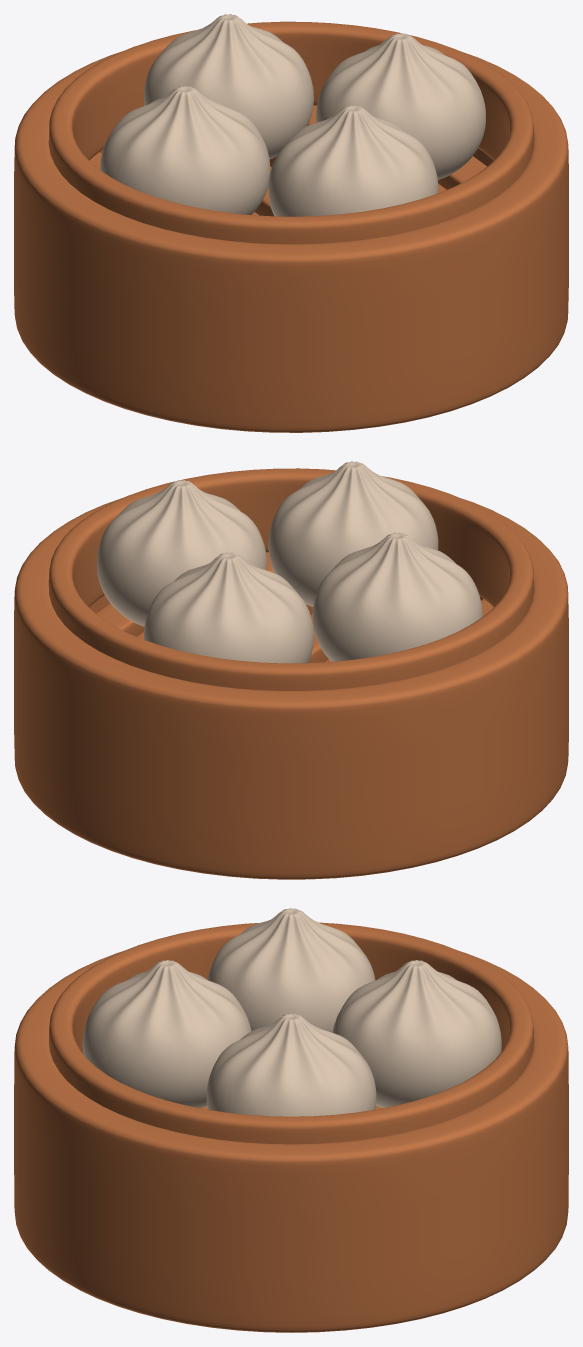
The picture shows the model from 3 angles, top to bottom: view 1: azimuth 30°, elevation 25°; view 2: azimuth 150°, elevation 25°; view 3: azimuth 270°, elevation 25°; orthographic projection.
Parts seen in each view (by area): view 1: Circle.102, Circle.101, Circle.103, Circle.104, Cube.063; view 2: Circle.102, Circle.101, Circle.103, Circle.104, Cube.063; view 3: Circle.102, Circle.104, Circle.101, Circle.103.
Part boxes in pixels (x1=…): Circle.102: x1=14, y1=51, x2=568, y2=432; Circle.101: x1=48, y1=21, x2=534, y2=244; Circle.103: x1=100, y1=33, x2=485, y2=214; Circle.104: x1=144, y1=14, x2=438, y2=216; Cube.063: x1=89, y1=105, x2=486, y2=216; Circle.102: x1=14, y1=498, x2=568, y2=879; Circle.101: x1=48, y1=468, x2=534, y2=690; Circle.103: x1=97, y1=480, x2=482, y2=661; Circle.104: x1=143, y1=461, x2=438, y2=663; Cube.063: x1=96, y1=552, x2=493, y2=662; Circle.102: x1=14, y1=951, x2=568, y2=1332; Circle.104: x1=82, y1=960, x2=501, y2=1108; Circle.101: x1=49, y1=922, x2=533, y2=1144; Circle.103: x1=206, y1=908, x2=376, y2=1116.
Size of the model in its own units: 3.19 by 1.62 by 3.19.
